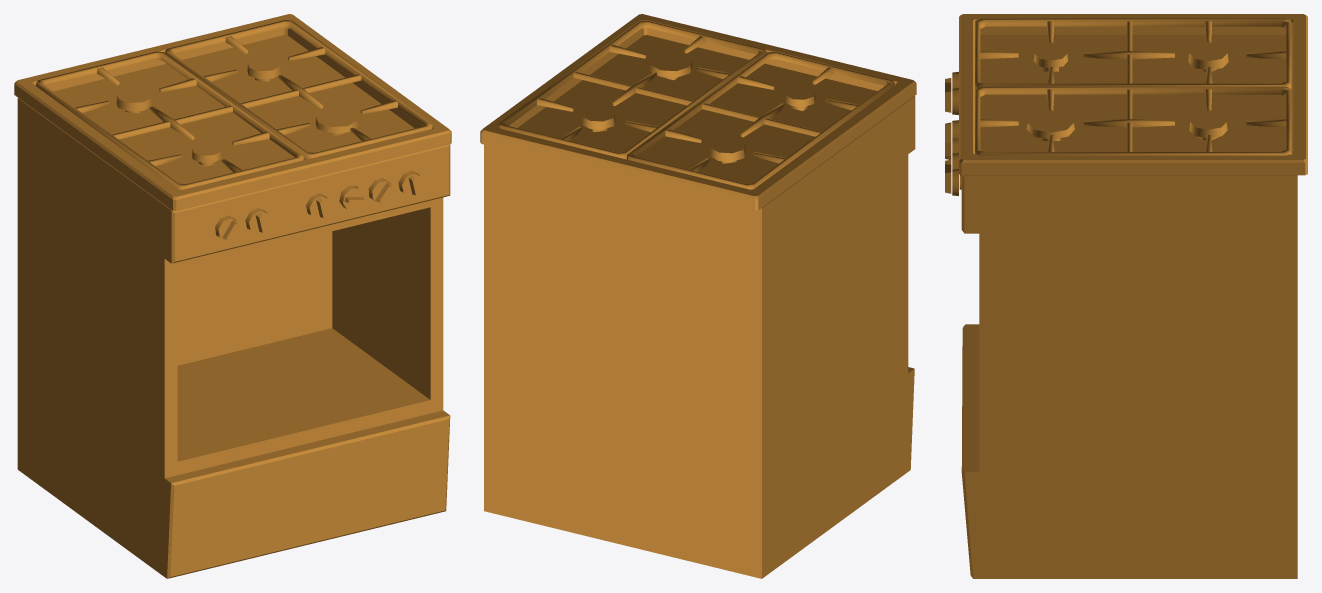
File: RFAIPP_Gas_Stove_Base.FBX
3 views of the same model, side by side, from view 1: azimuth 30°, elevation 25°; view 2: azimuth 150°, elevation 25°; view 3: azimuth 270°, elevation 25° (orthographic). The views are drawn at different scales.
Parts seen in each view (by area): view 1: RFAIPP_Gas_Stove_Base; view 2: RFAIPP_Gas_Stove_Base; view 3: RFAIPP_Gas_Stove_Base.
Part boxes in pixels (left/top/right/bottom): RFAIPP_Gas_Stove_Base: left=14, top=14, right=451, bottom=578; RFAIPP_Gas_Stove_Base: left=480, top=14, right=916, bottom=578; RFAIPP_Gas_Stove_Base: left=945, top=14, right=1307, bottom=578.
Bounding box in the file's own units: 0.65 × 0.8626 × 0.6758.
